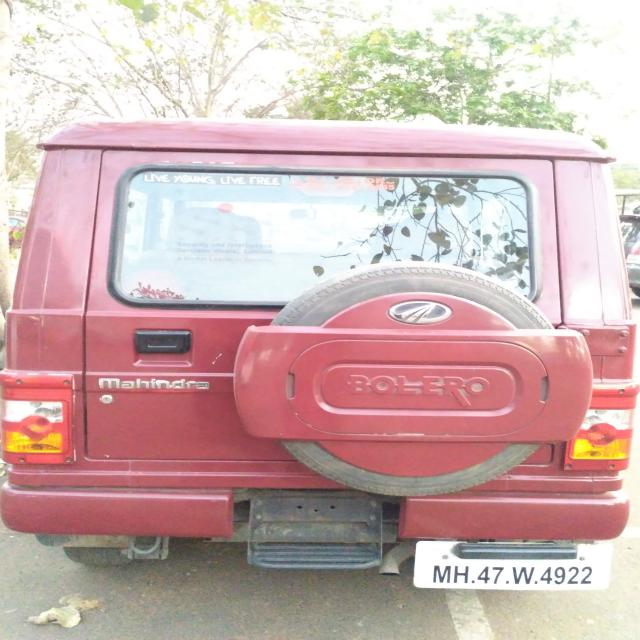Number-Plate: (421, 556, 590, 592)
